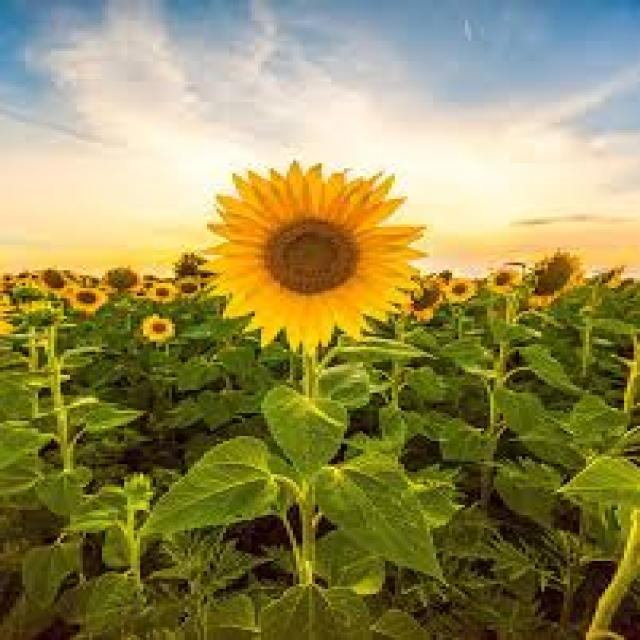sunflower: (196, 143, 434, 339), (530, 249, 584, 315), (60, 286, 111, 314), (132, 316, 177, 344), (484, 265, 529, 293), (443, 278, 484, 308), (148, 278, 186, 306)
